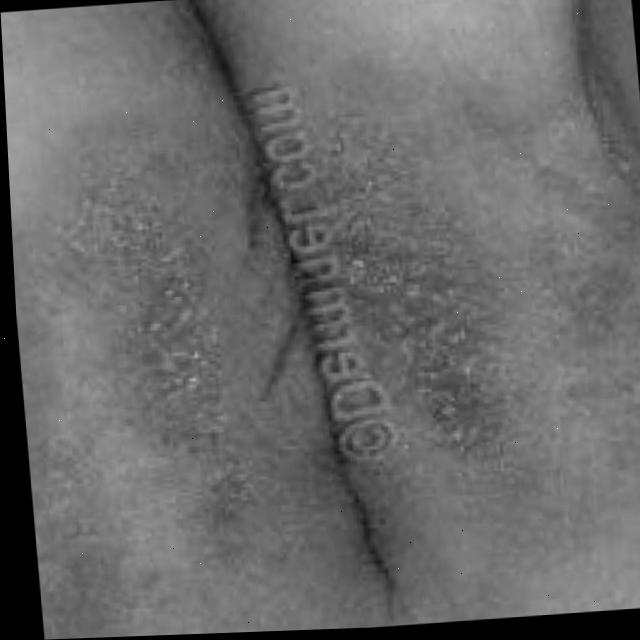Eczema: (298, 92, 640, 482), (48, 136, 272, 580)
